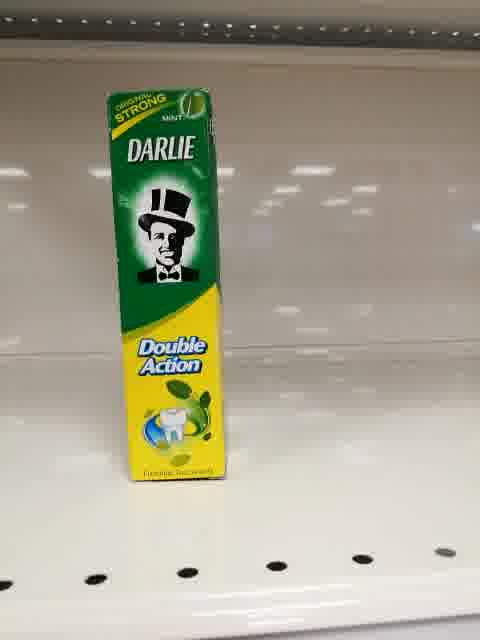toothpaste: (106, 88, 230, 480)
